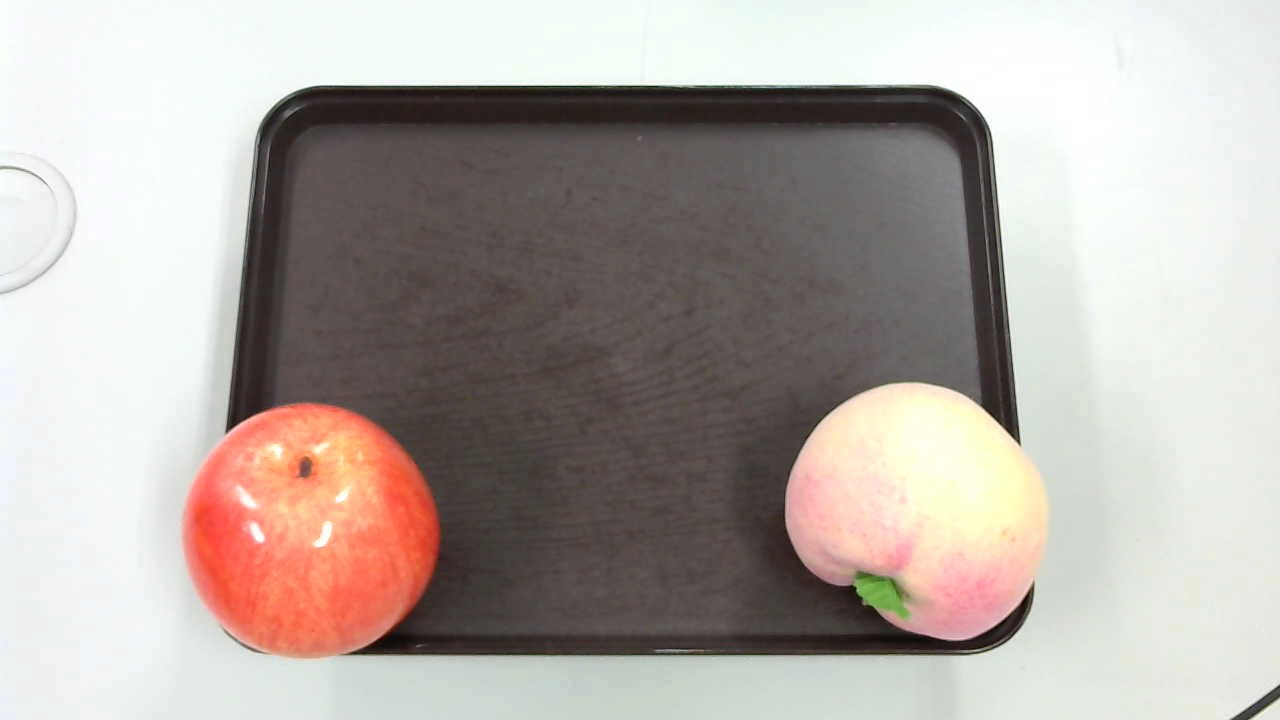peach: (775, 379, 1052, 648)
red apple: (180, 397, 438, 662)
